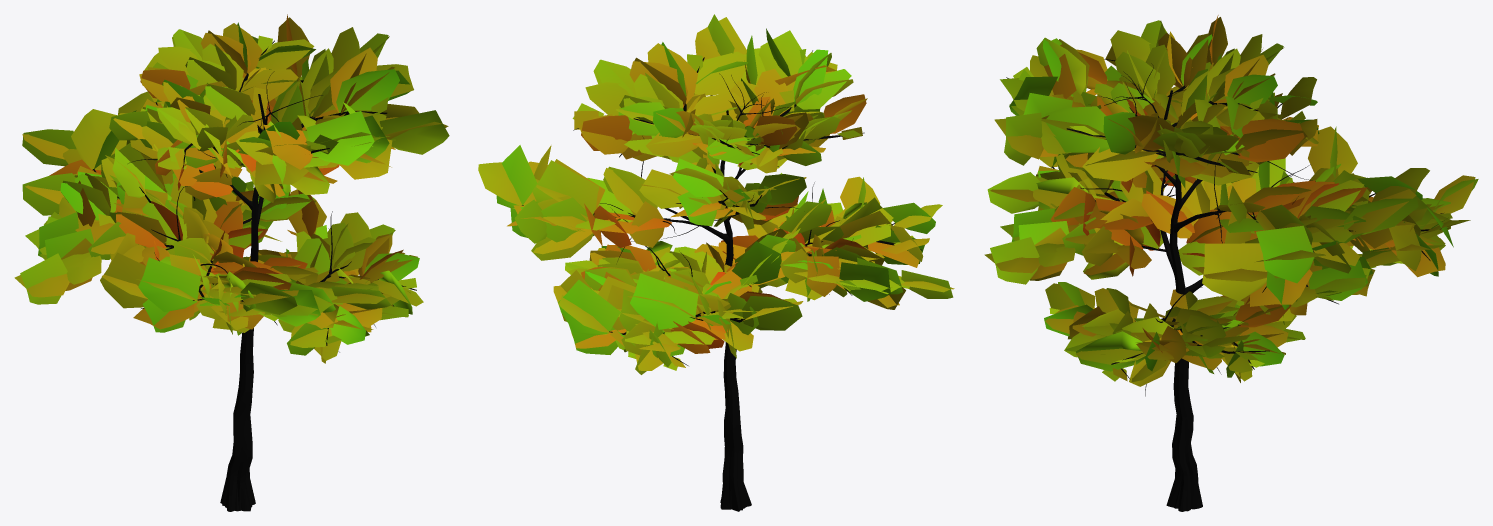
Rendered from Tree_med_2.glb.
3 renders of one model, left to right at view 1: azimuth 30°, elevation 25°; view 2: azimuth 150°, elevation 25°; view 3: azimuth 270°, elevation 25°, orthographic. The views are drawn at different scales.
Parts seen in each view (by area): view 1: Tree med 2; view 2: Tree med 2; view 3: Tree med 2.
Part boxes in pixels (<box>): Tree med 2: <box>14,14,449,511</box>; Tree med 2: <box>478,14,954,511</box>; Tree med 2: <box>984,15,1478,511</box>.
Size of what is drawn, in the model's own units: 35.69 by 34.11 by 33.68.
